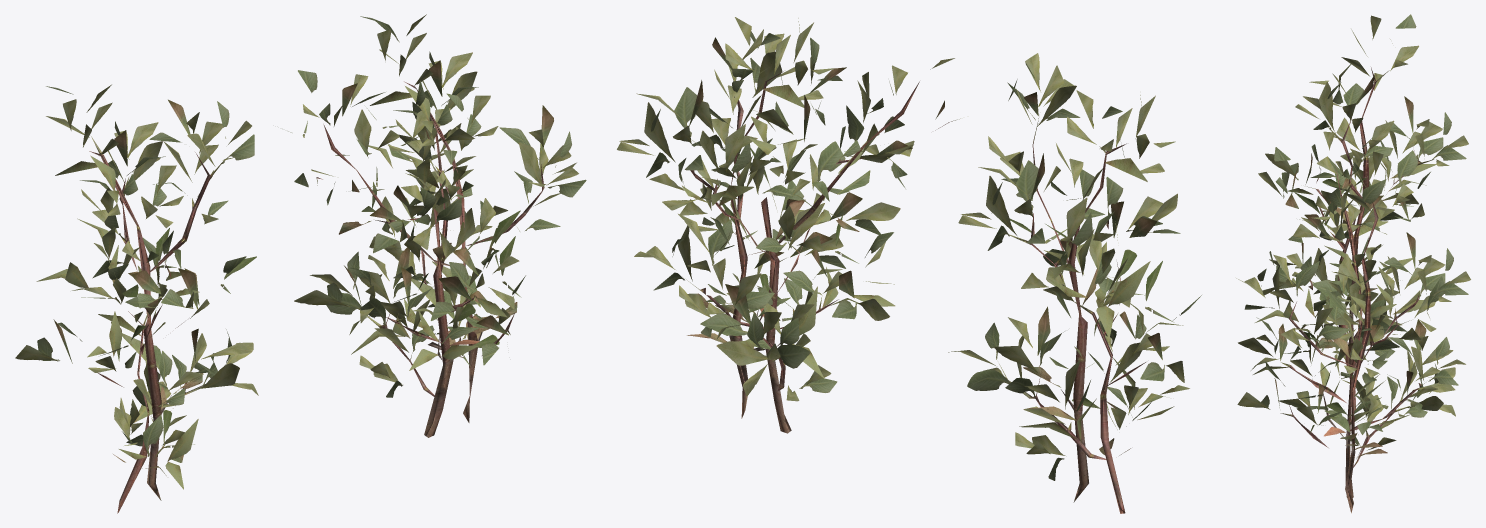
File: myrtille.glb
3 views of the same model, side by side, from view 1: azimuth 30°, elevation 25°; view 2: azimuth 150°, elevation 25°; view 3: azimuth 270°, elevation 25° (orthographic). The views are drawn at different scales.
Parts seen in each view (by area): view 1: shrub_04_1, shrub_04_0; view 2: shrub_04_1, shrub_04_0; view 3: shrub_04_1, shrub_04_0.
Boxes of the visible parts, x1,y1,x2,y2 form: shrub_04_1: (15, 14, 586, 500); shrub_04_0: (72, 102, 520, 513); shrub_04_1: (617, 17, 1201, 502); shrub_04_0: (634, 110, 1189, 513); shrub_04_1: (1236, 14, 1470, 513); shrub_04_0: (1238, 144, 1465, 497).
Size of the model in its own units: 0.2783 by 0.2153 by 0.1353.
1 material, 1 textured.
